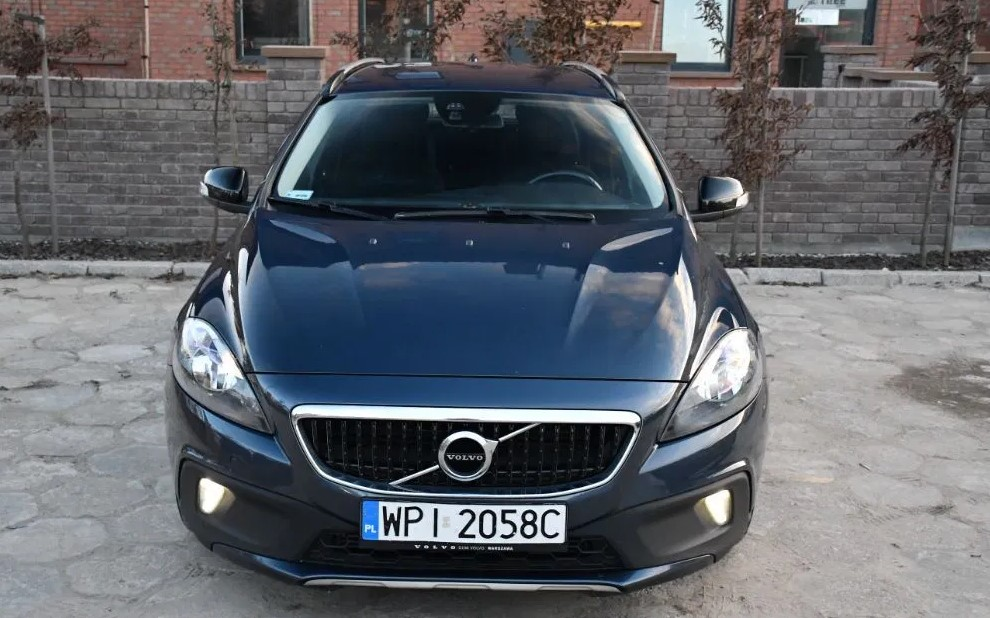number_plate: (353, 495, 574, 556)
